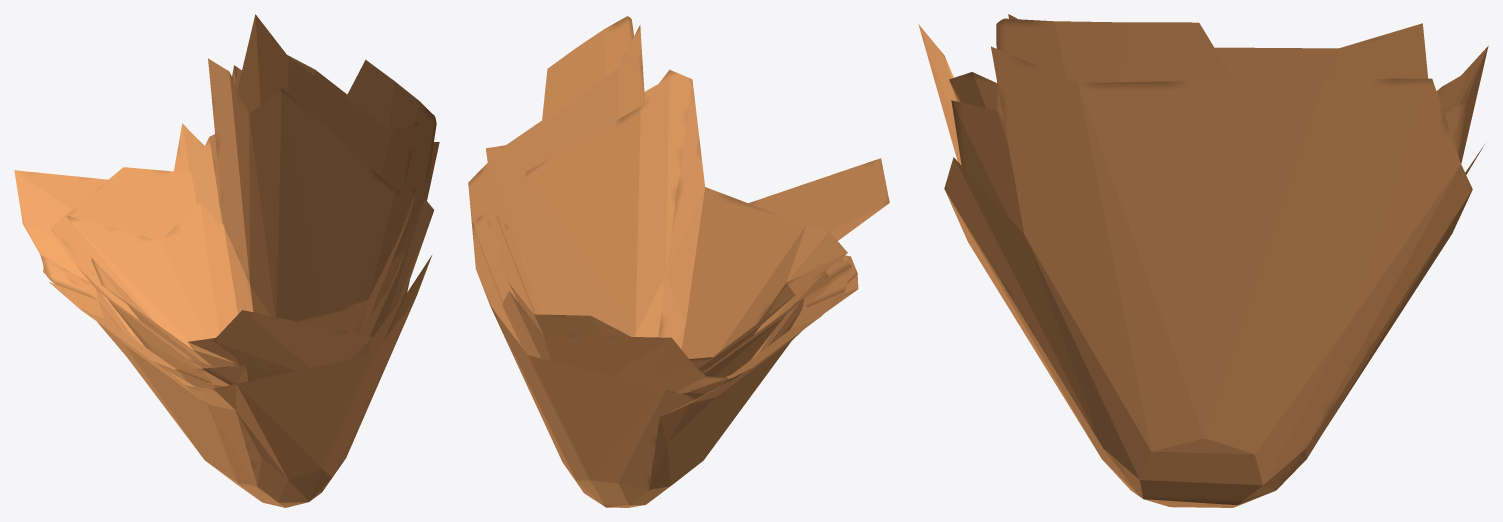
The model's file is DetectiveCat-LeftLeg.obj.
The picture shows the model from 3 angles, left to right: view 1: azimuth 30°, elevation 25°; view 2: azimuth 150°, elevation 25°; view 3: azimuth 270°, elevation 25°; orthographic projection. The views are drawn at different scales.
Visible parts, largest first — view 1: Left Leg; view 2: Left Leg; view 3: Left Leg.
Part boxes in pixels (x1=…): Left Leg: x1=14, y1=14, x2=439, y2=507; Left Leg: x1=468, y1=16, x2=889, y2=507; Left Leg: x1=918, y1=14, x2=1488, y2=507.
Bounding box in the file's own units: 1.04 × 1.63 × 1.57.
